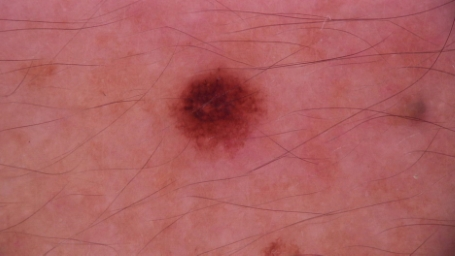melanoma: (169, 67, 269, 157)
